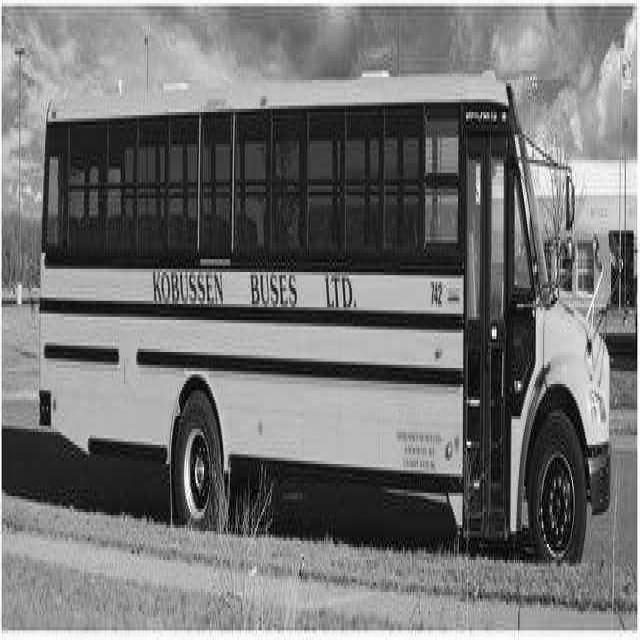Bus: (39, 72, 609, 558)
